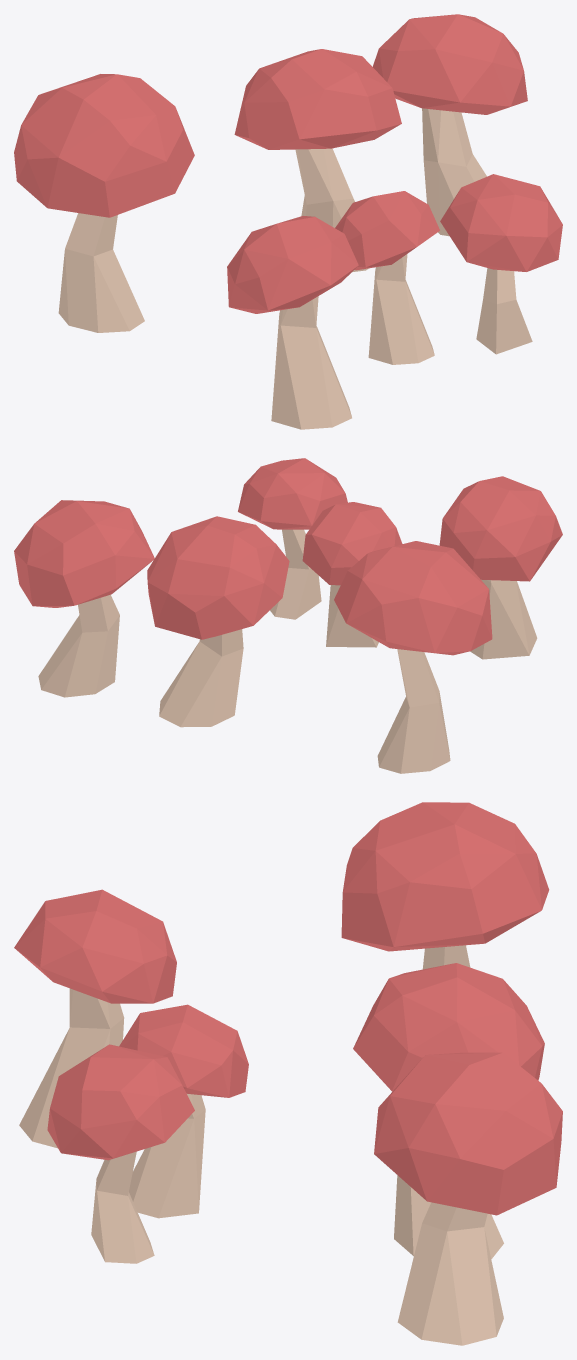
The model's file is mushroom-cluster.glb.
3 renders of one model, top to bottom at view 1: azimuth 30°, elevation 25°; view 2: azimuth 150°, elevation 25°; view 3: azimuth 270°, elevation 25°, orthographic. The views are drawn at different scales.
Parts seen in each view (by area): view 1: Node; view 2: Node; view 3: Node.
Part boxes in pixels (x1,y1,x2,y2): Node: (14, 14, 562, 429); Node: (14, 458, 562, 773); Node: (14, 802, 562, 1345).
Size of the model in its own units: 0.9633 by 0.4421 by 0.7566.
